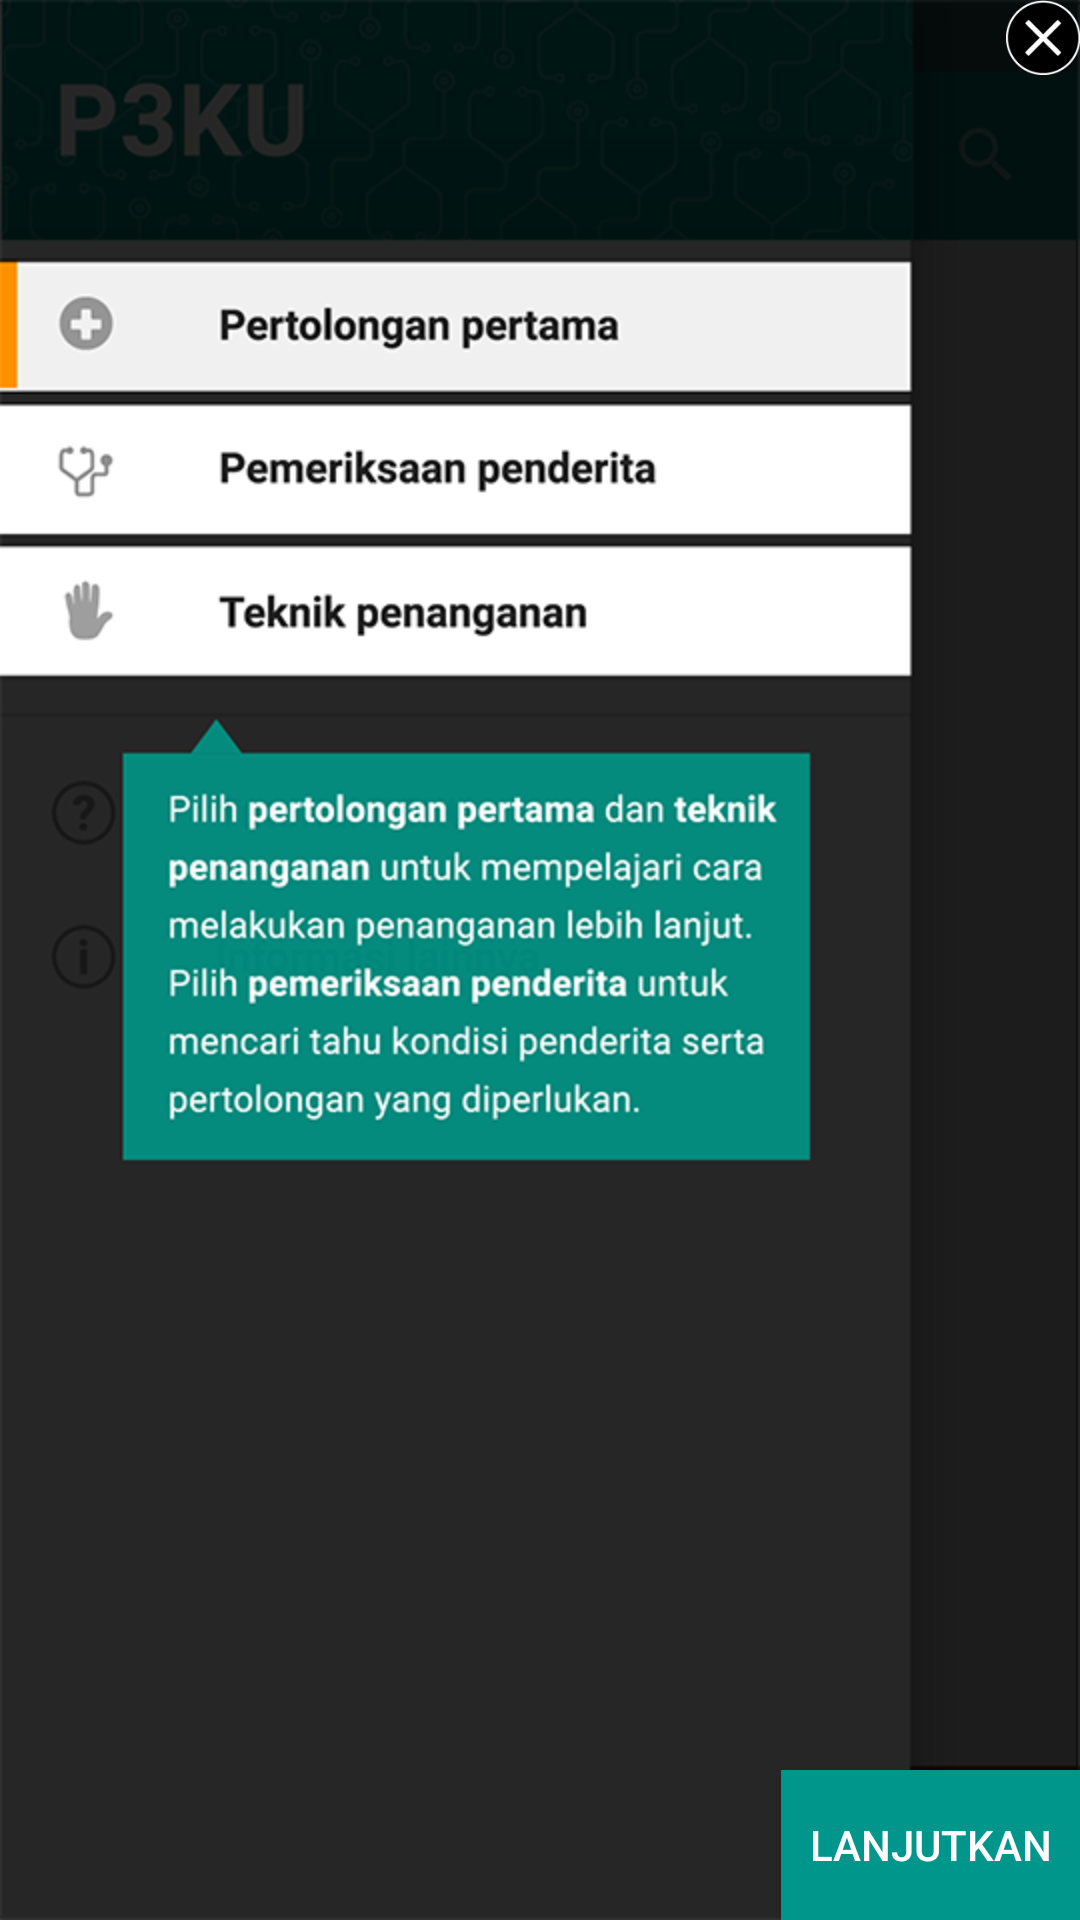

Locate icon controls on the screen. Image size 1080px x 1920px, boxes as (x1, y1, x2, y2).
close tutorial: (1006, 0, 1080, 75)
